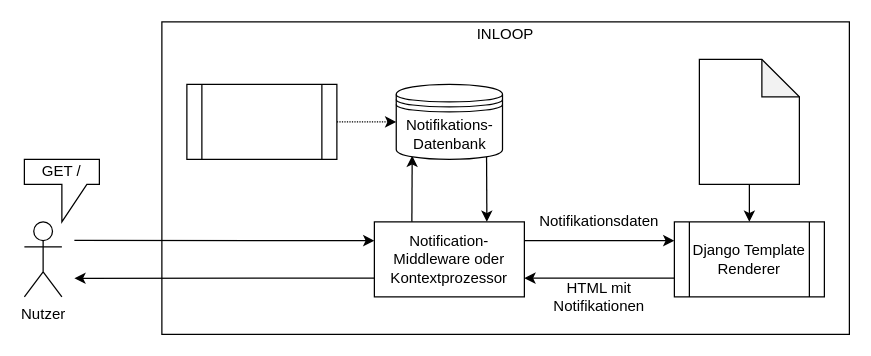
Image size: 871x356. Some labels were removed from this diagram. Here are the shapes that lost their labels. From the top down, the centre of each, then its label:
pixel 261 121: Notifikations- erzeugender Prozess
pixel 748 121: HTML mit Platzhalter für Notifikationen
